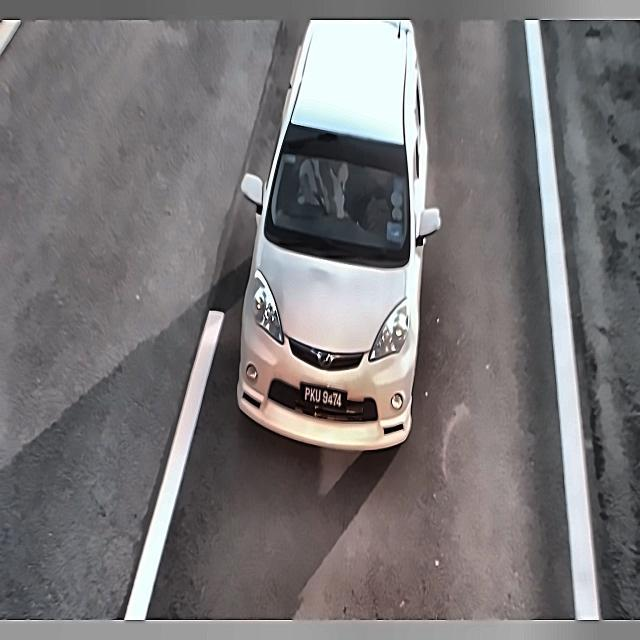car: (296, 377, 354, 417)
